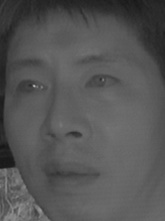eye: (80, 70, 123, 92), (13, 75, 49, 99)
mouth: (40, 157, 105, 194)
